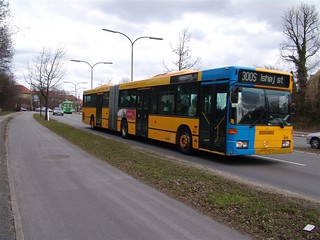bus: (80, 66, 293, 158)
